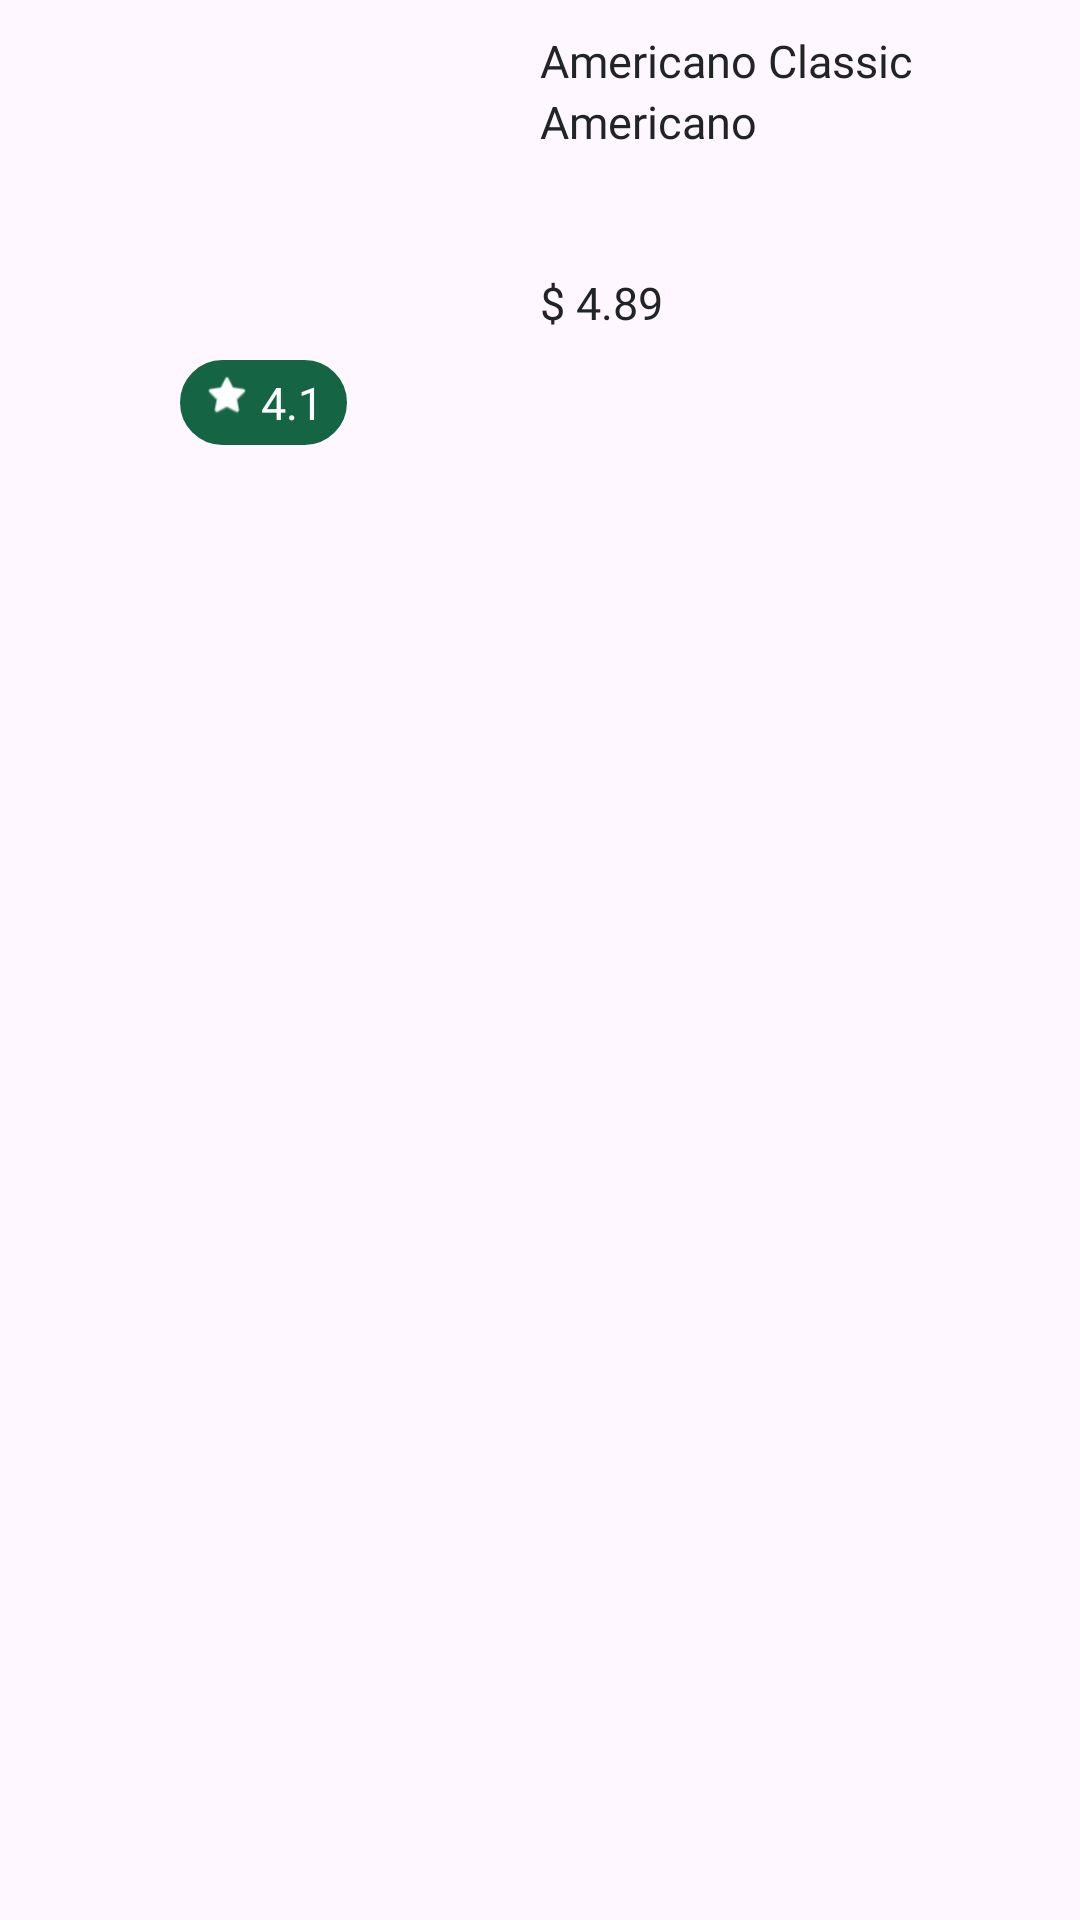

Icons on this 1080 × 1920 Android screen, each with the point to tap as point (x, y):
star on: point (227, 395)
